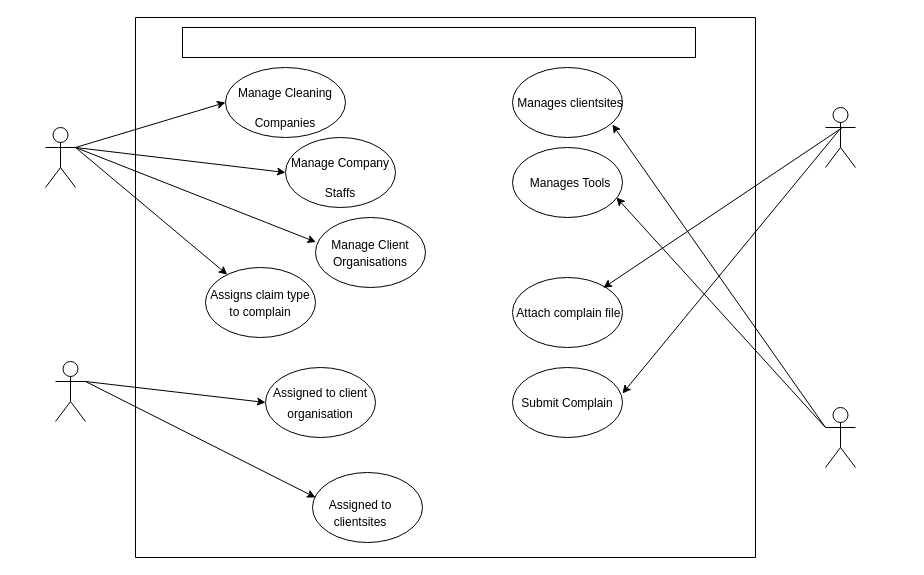
Some shapes in this 924 by 575 pixel diagram are drawn without their labels. Here are the shapes that lost their labels. From the top down, the centre of each, then its label:
At (x=439, y=42): "University Cleaners Management System".
At (x=60, y=157): "Admin".
At (x=840, y=137): "Staff".
At (x=70, y=391): "Company Staff".
At (x=840, y=437): "Client organisation".
